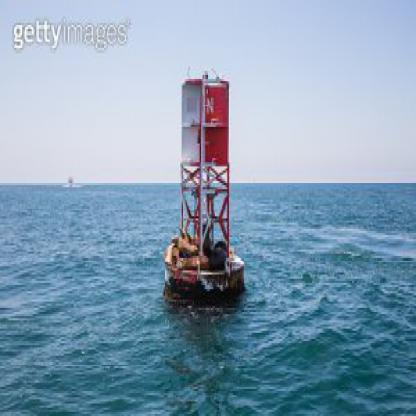buoy: (155, 54, 251, 312)
